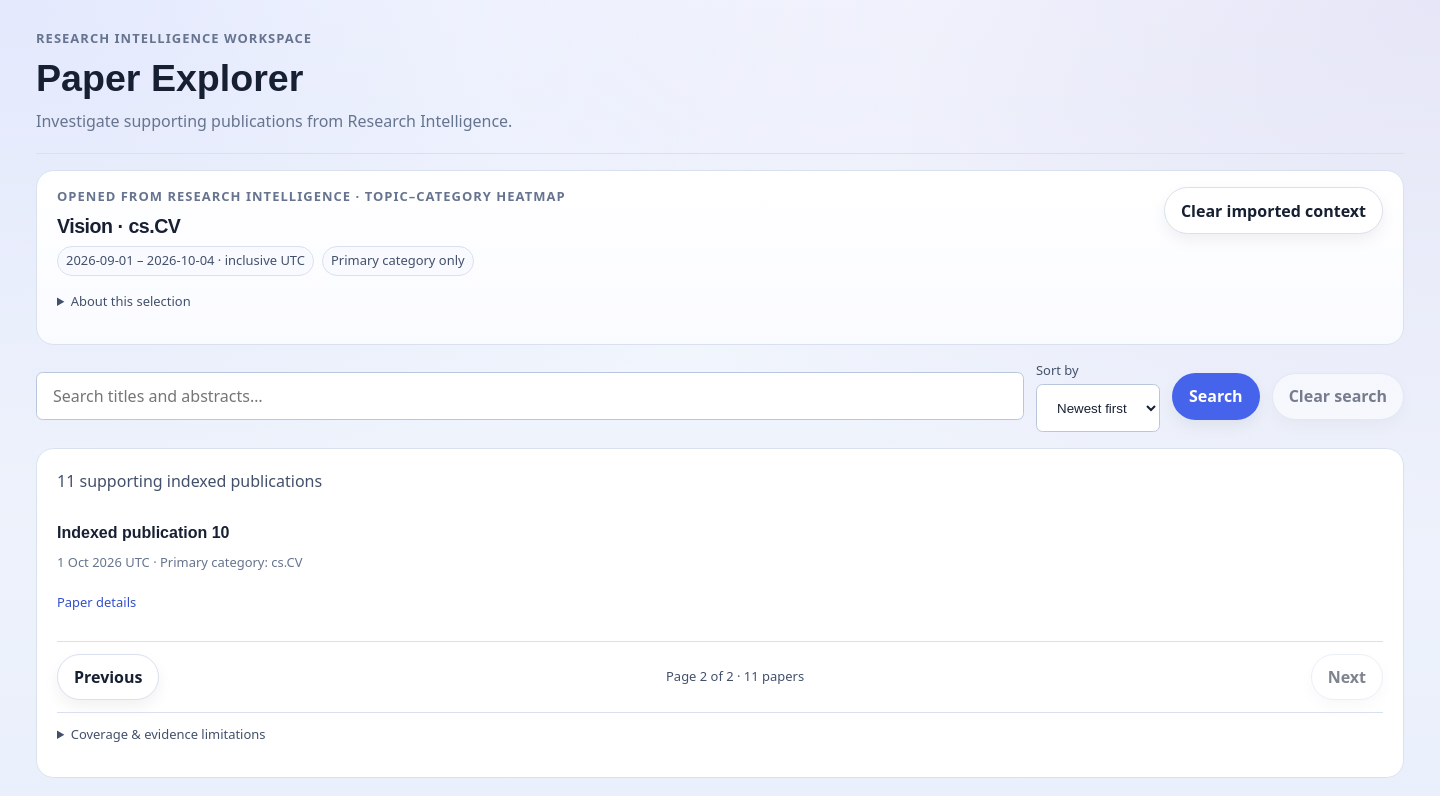
Imported Paper Explorer context › restores exact intersection/scope after a fresh URL load and clears to independent search
Later steps or results of the test are not shown.
Expected: the heading "Indexed publication 10" is shown, [57, 524, 230, 541]
Expected: the text "Opened from Research Intelligence · Topic–Category Heatmap" is shown, [57, 187, 566, 207]
Click the button "Previous": x=108, y=677 [57, 654, 160, 700]
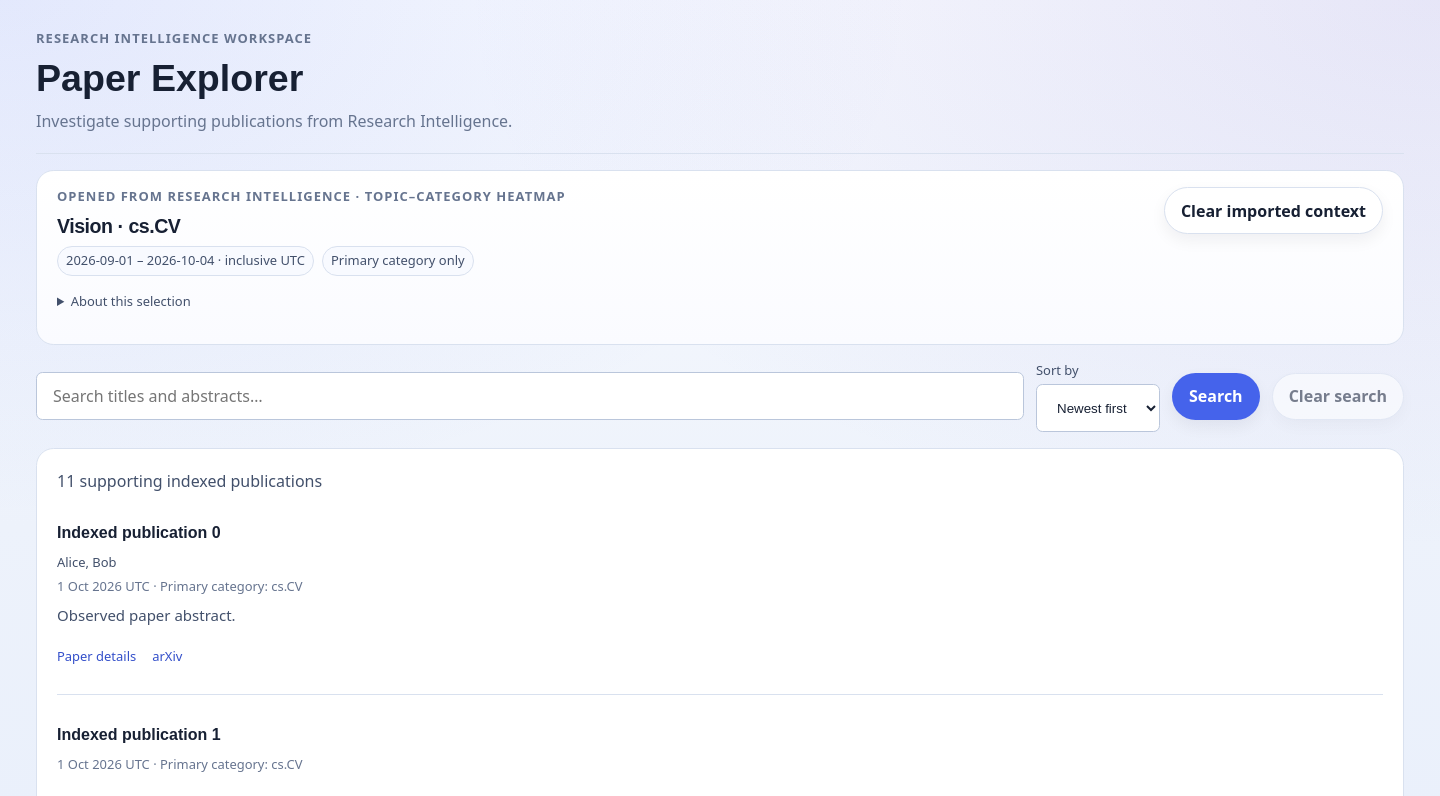
Result: the heading "Indexed publication 0" is shown at [57, 524, 221, 541]
